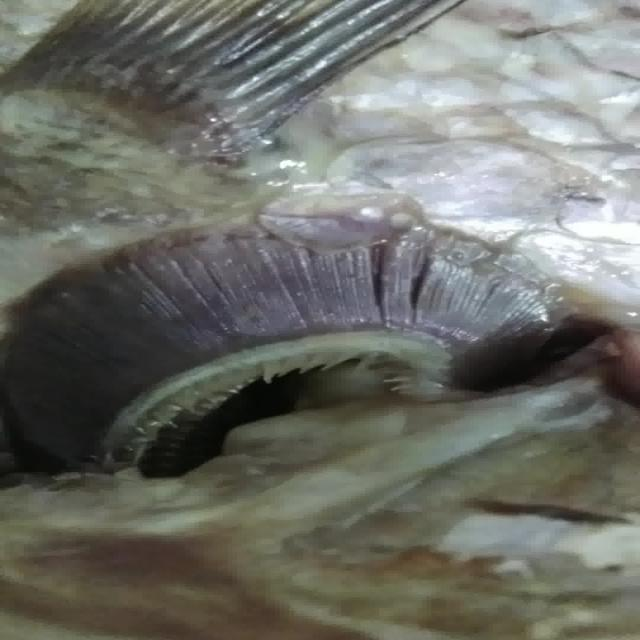Non-Fresh: (6, 202, 579, 414)
